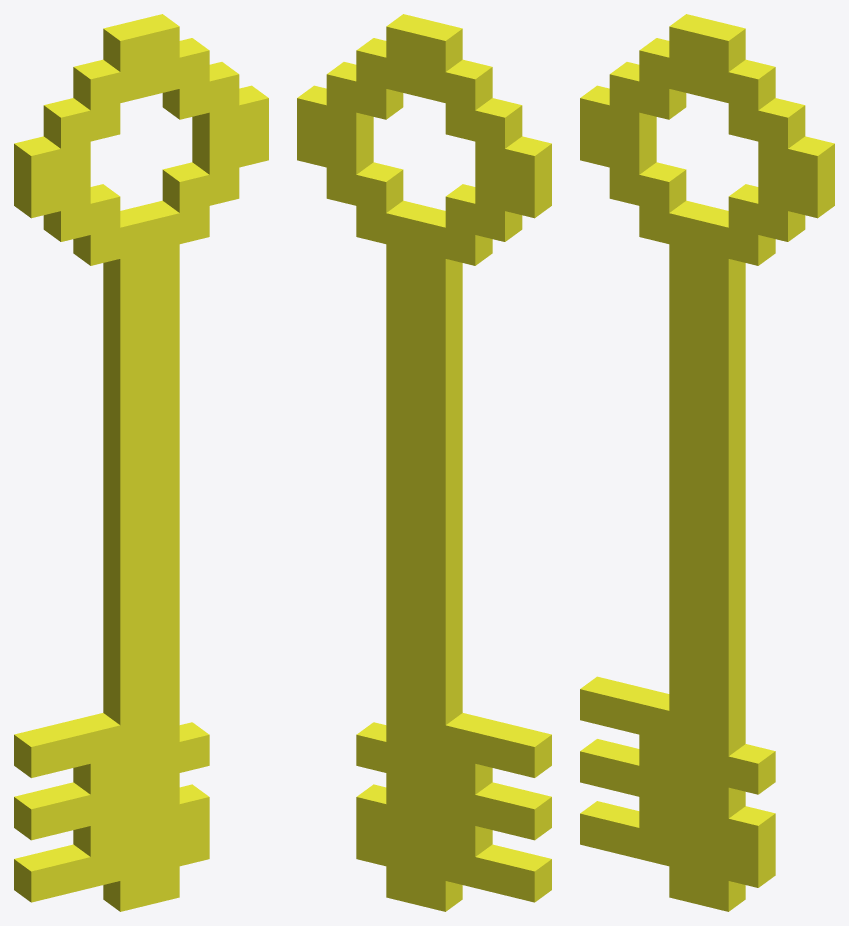
File: key.obj
The picture shows the model from 3 angles, left to right: view 1: azimuth 30°, elevation 25°; view 2: azimuth 150°, elevation 25°; view 3: azimuth 330°, elevation 25°; orthographic projection.
Size of the model in its own units: 0.8 by 2.8 by 0.1.
1 material, 1 textured.
